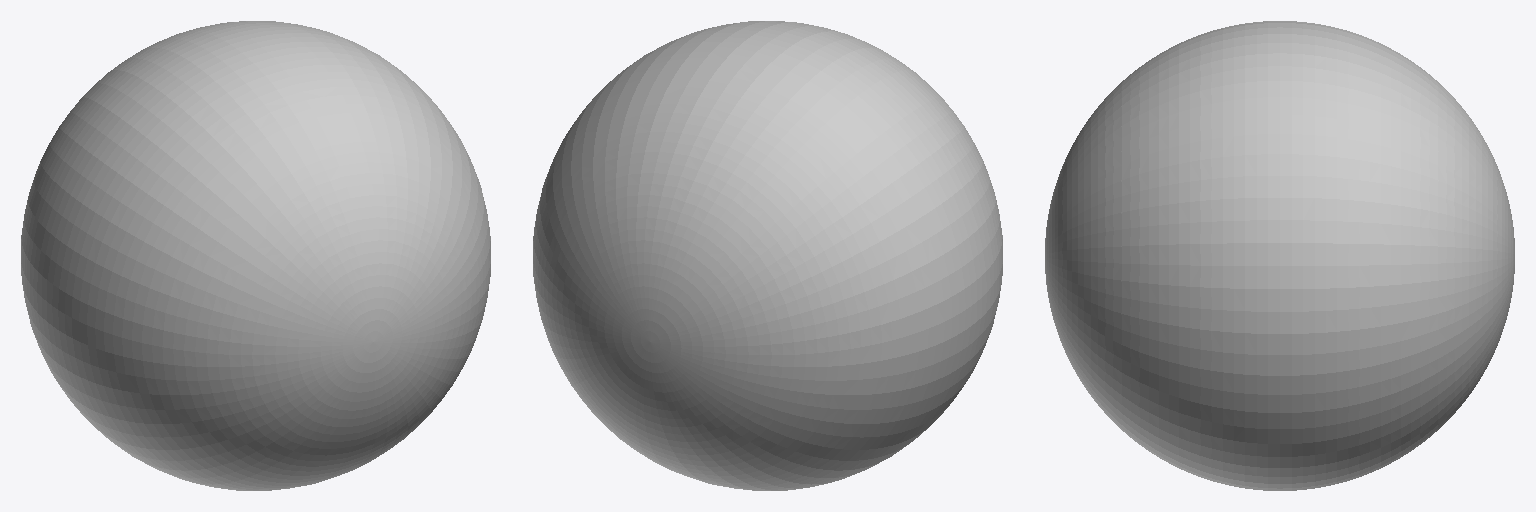
Rendered from planet.obj.
3 views of the same model, side by side, from view 1: azimuth 30°, elevation 25°; view 2: azimuth 150°, elevation 25°; view 3: azimuth 270°, elevation 25° (orthographic).
Parts seen in each view (by area): view 1: Plane; view 2: Plane; view 3: Plane.
Part boxes in pixels (left/top/right/bottom): Plane: left=21, top=21, right=490, bottom=490; Plane: left=533, top=21, right=1002, bottom=490; Plane: left=1045, top=21, right=1514, bottom=490.
Size of the model in its own units: 52.14 by 52.14 by 52.14.